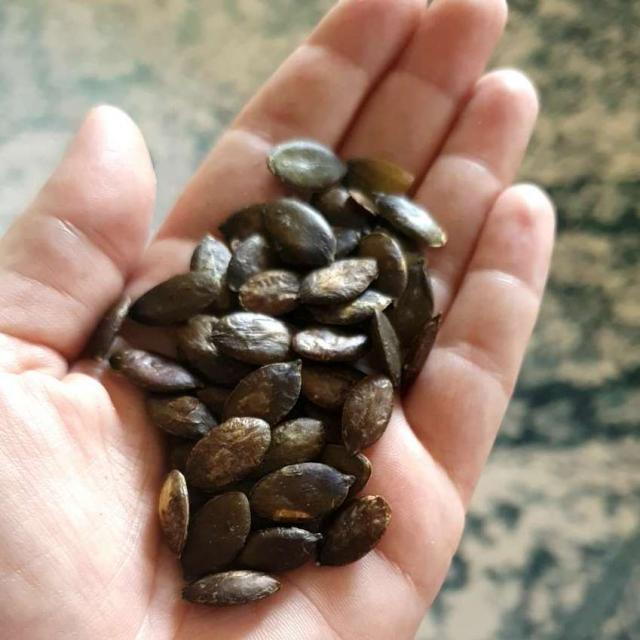pumpkin-seeds: (124, 150, 418, 600)
